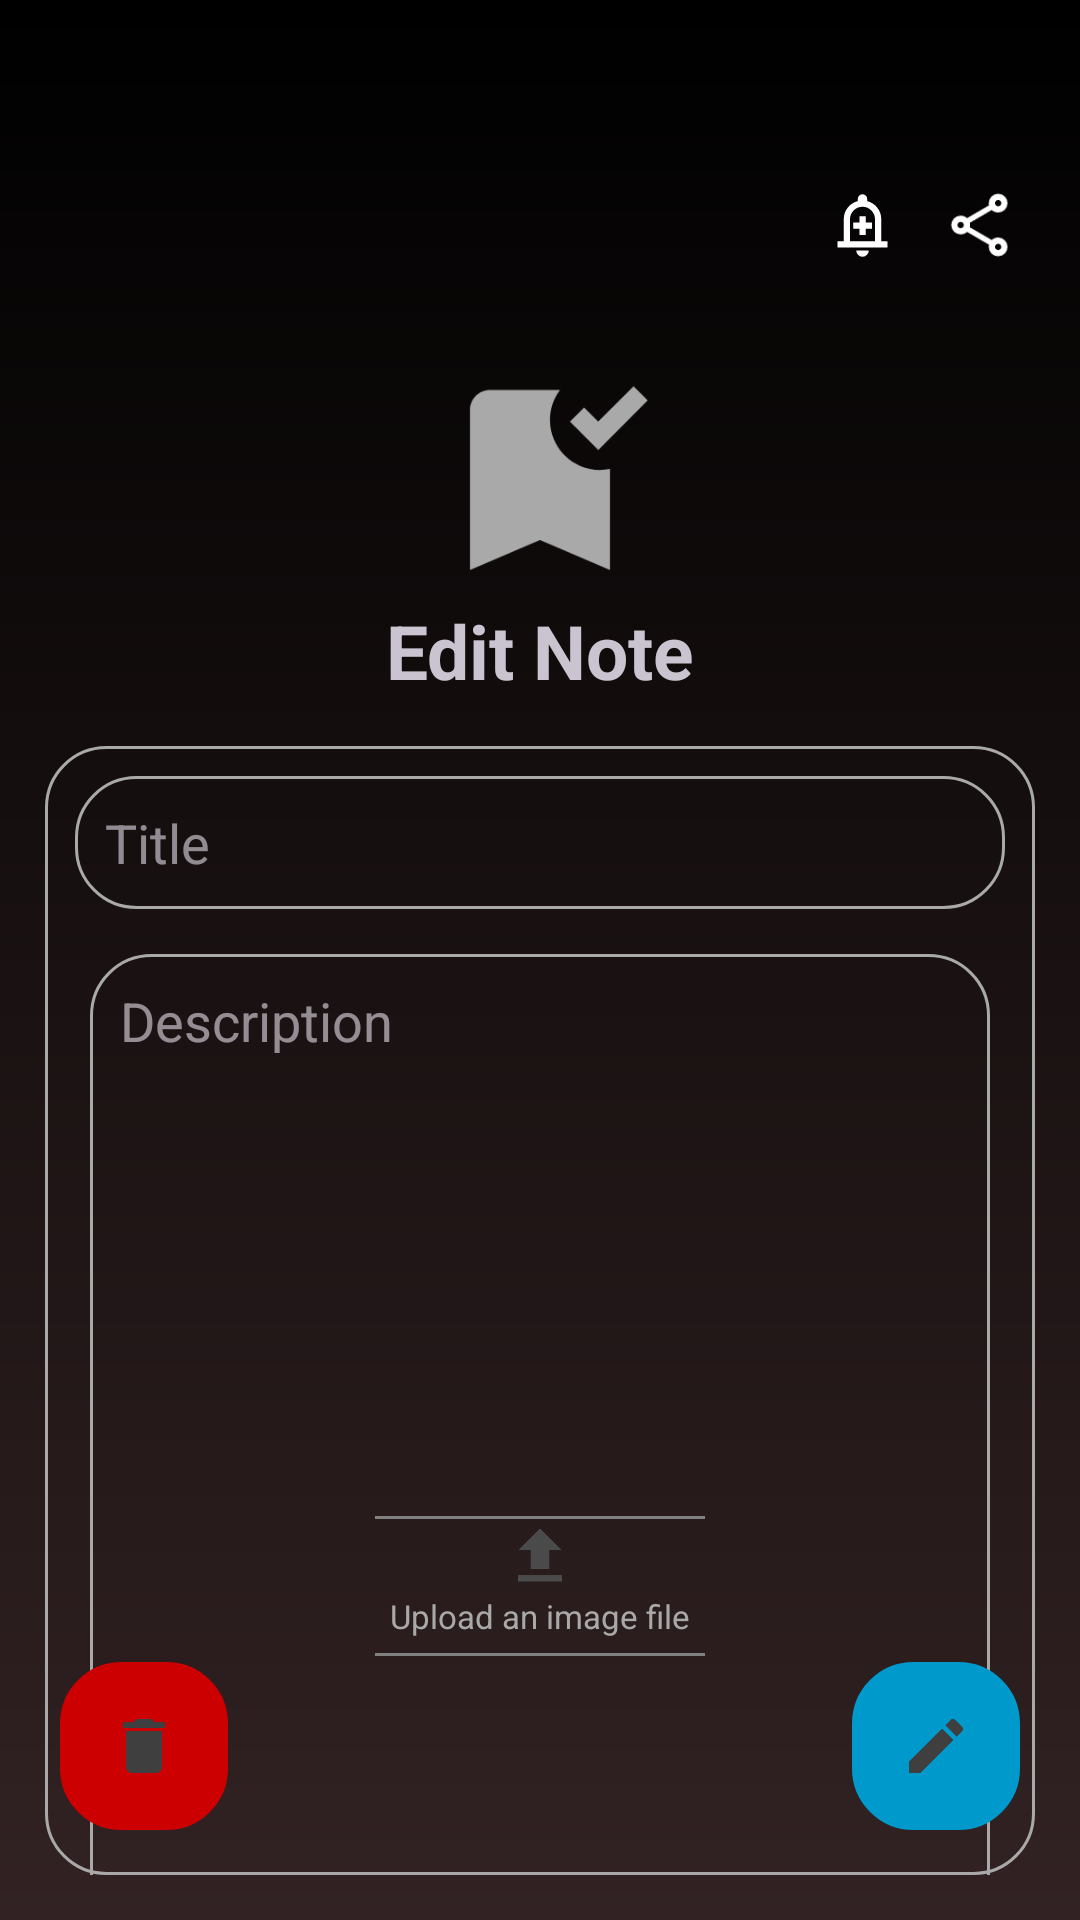

Named icons in this screenshot (1080px×1920px) and their bounding boxes, (x1, y1, x2, y2):
Delete: (60, 1662, 228, 1830)
set reminder: (837, 194, 888, 257)
share button: (951, 193, 1008, 257)
